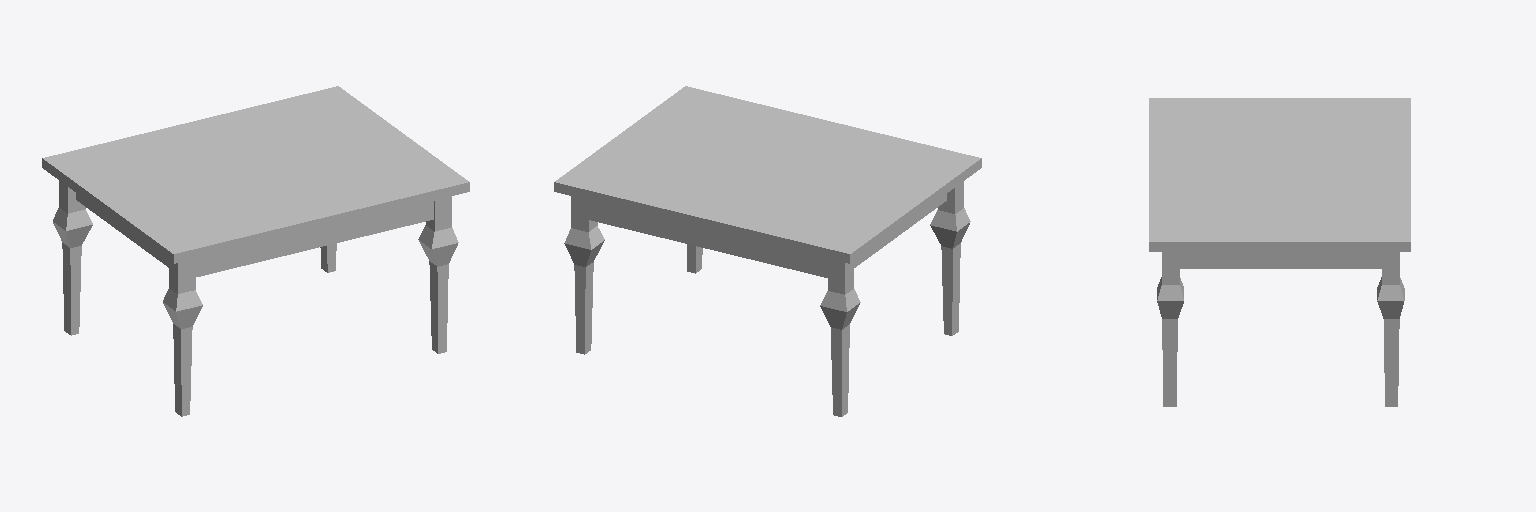
The model's file is Mesa de noche.obj.
3 views of the same model, side by side, from view 1: azimuth 30°, elevation 25°; view 2: azimuth 150°, elevation 25°; view 3: azimuth 270°, elevation 25° (orthographic).
Visible parts, largest first — view 1: Mesa de noche.obj; view 2: Mesa de noche.obj; view 3: Mesa de noche.obj.
Boxes of the visible parts, <box> form: Mesa de noche.obj: <box>42,86,469,416</box>; Mesa de noche.obj: <box>554,86,981,416</box>; Mesa de noche.obj: <box>1149,98,1410,406</box>.
Bounding box in the file's own units: 0.948 × 0.525 × 0.728.